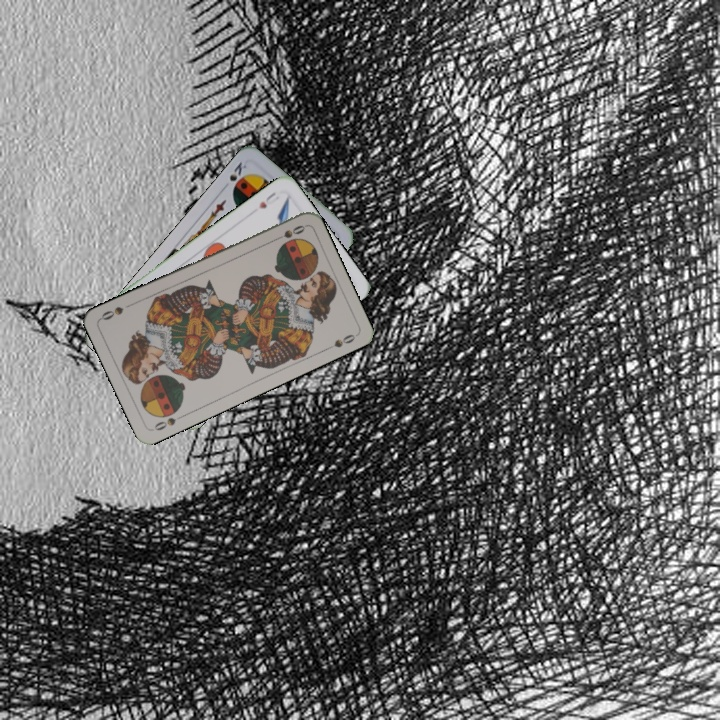HU: (254, 188, 282, 212)
SK: (225, 158, 249, 184)
SO: (269, 221, 308, 244), (149, 410, 187, 433)
